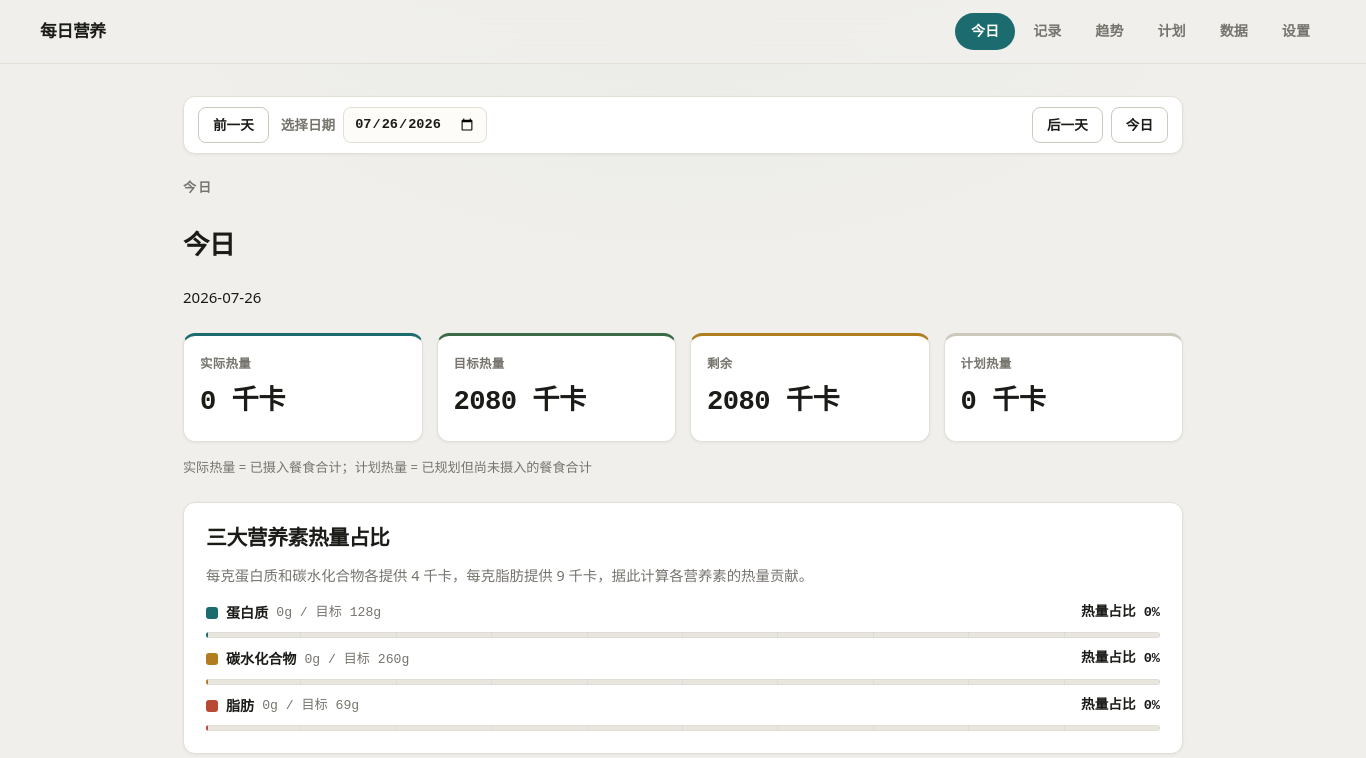
Test: settings workspace › edits profile and recalculates daily target
Expected: the heading "今日" is shown, [183,226,235,262]
Click the button "设置": (1296, 31) [1266,13,1326,50]
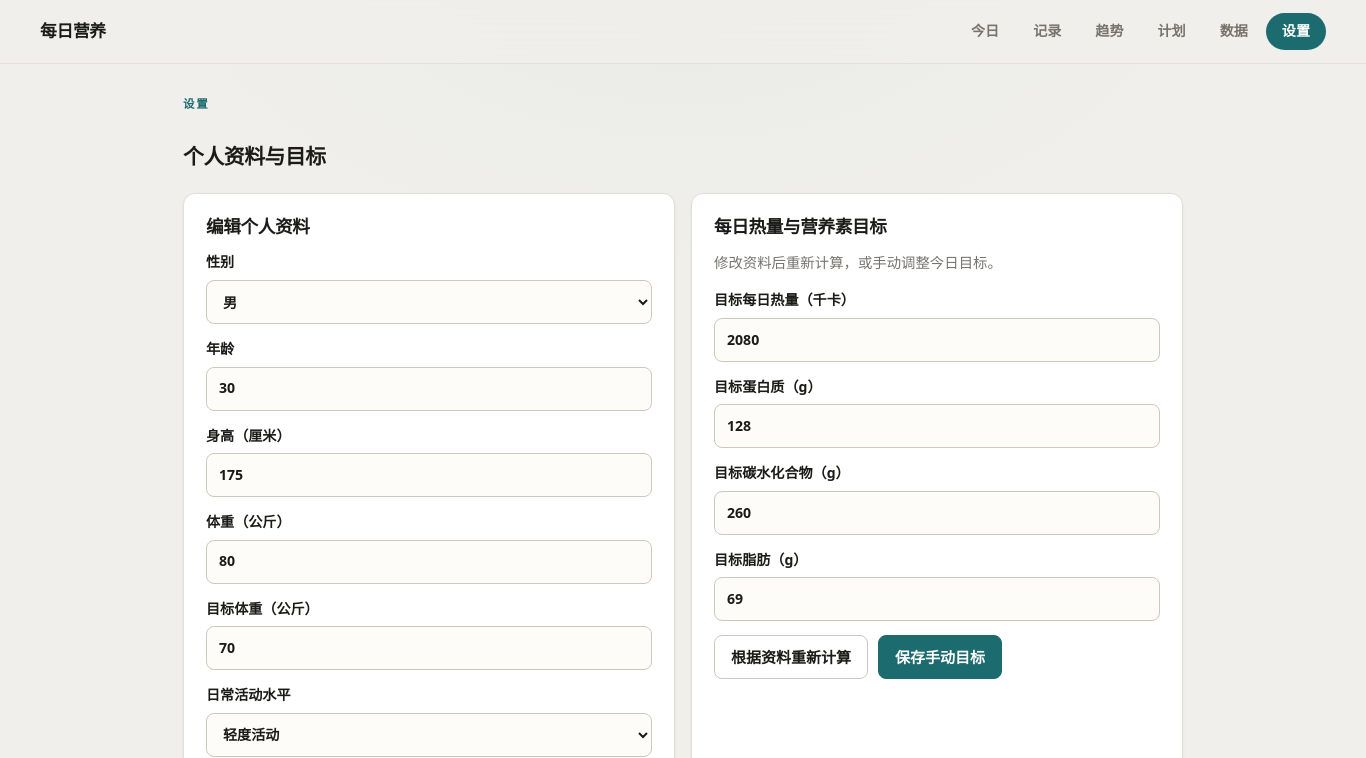
Replace the text in the number field labelled "体重（公斤）" with "75": (429, 562) [206,540,652,584]
(page scrolled)
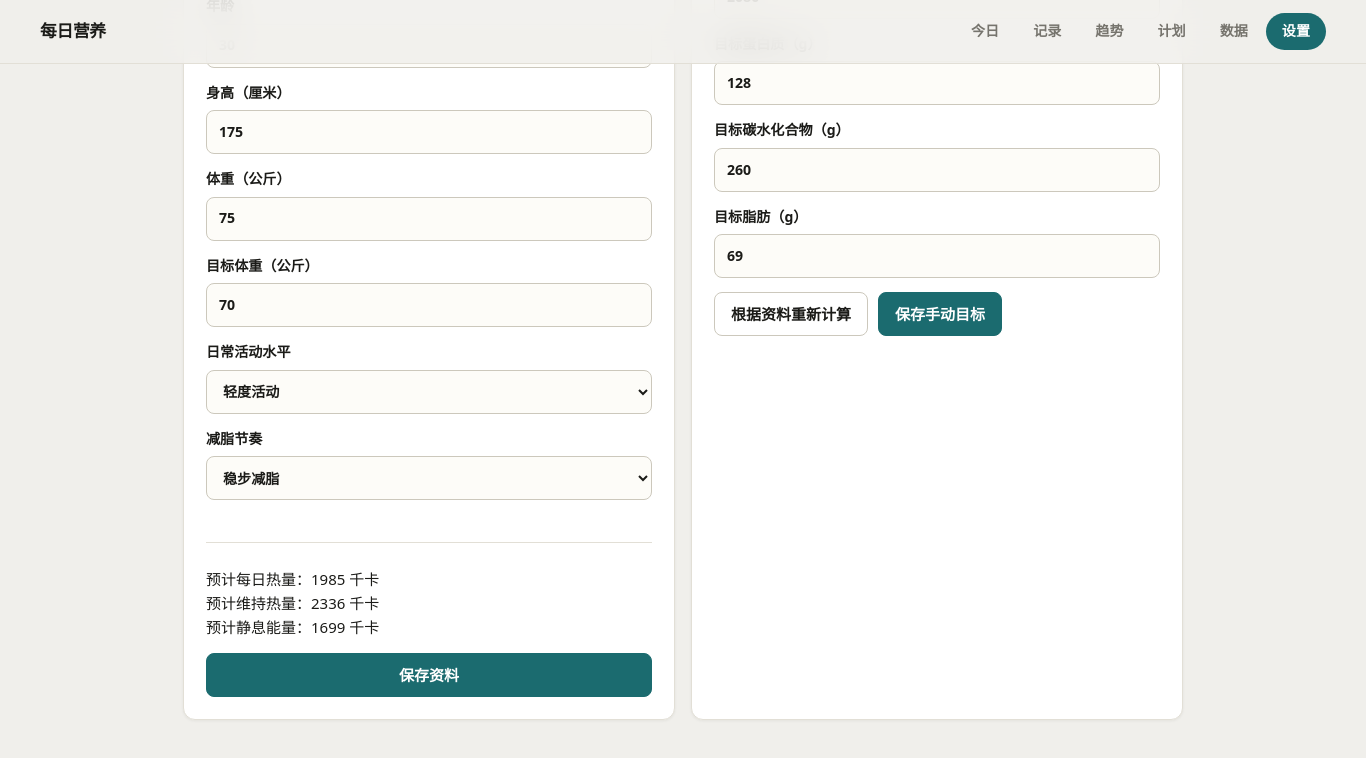
Click the button "保存资料": (429, 675) [206,653,652,697]
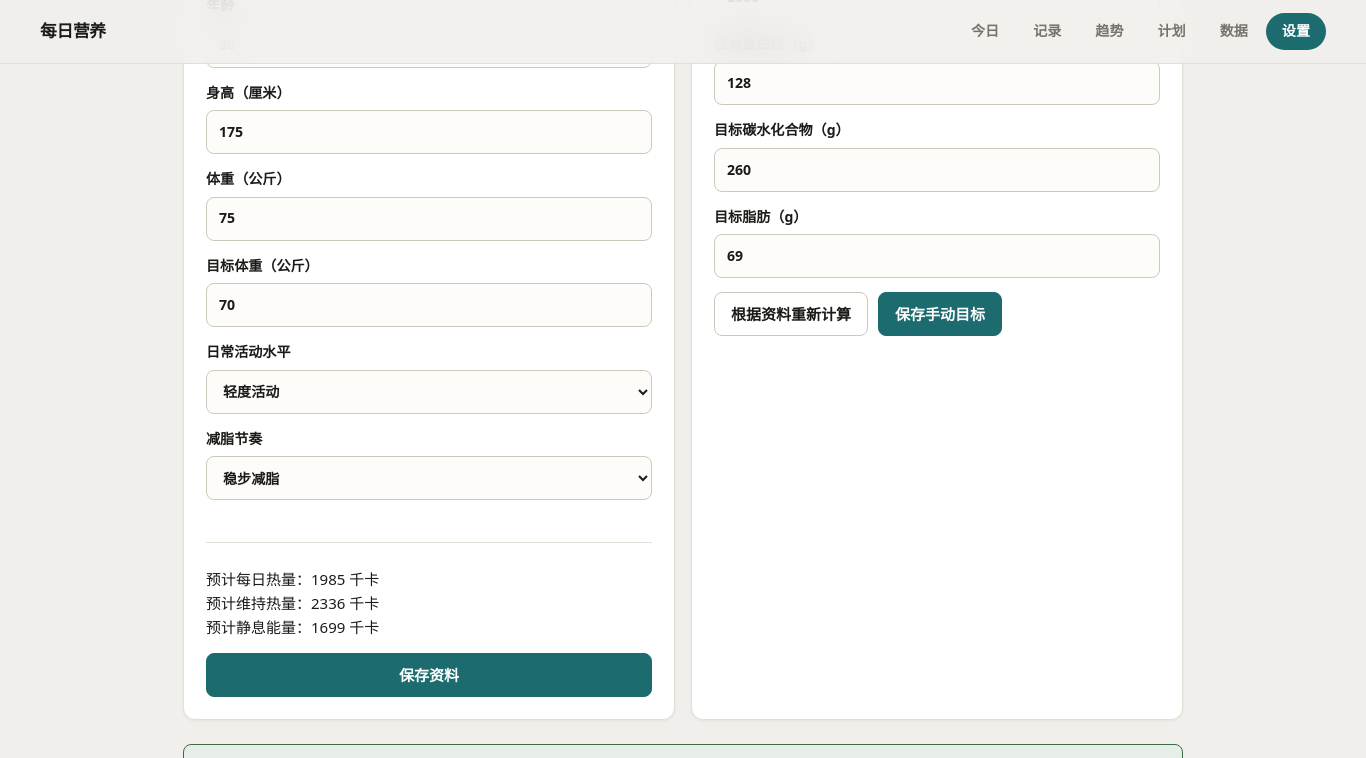
Select "温和减脂" in the dropdown labelled "减脂节奏": (429, 478) [206,456,652,500]
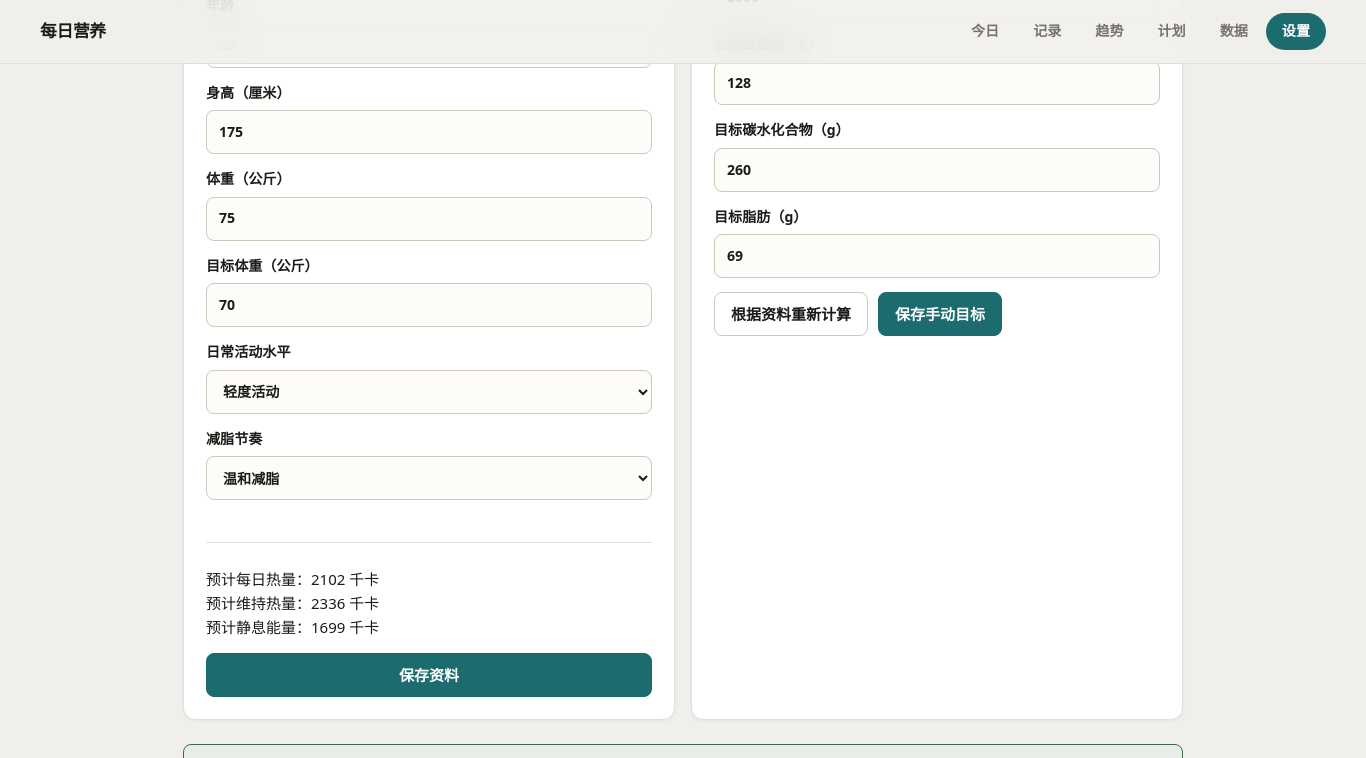
Click the button "根据资料重新计算": (791, 314) [714,292,868,336]
(page scrolled)
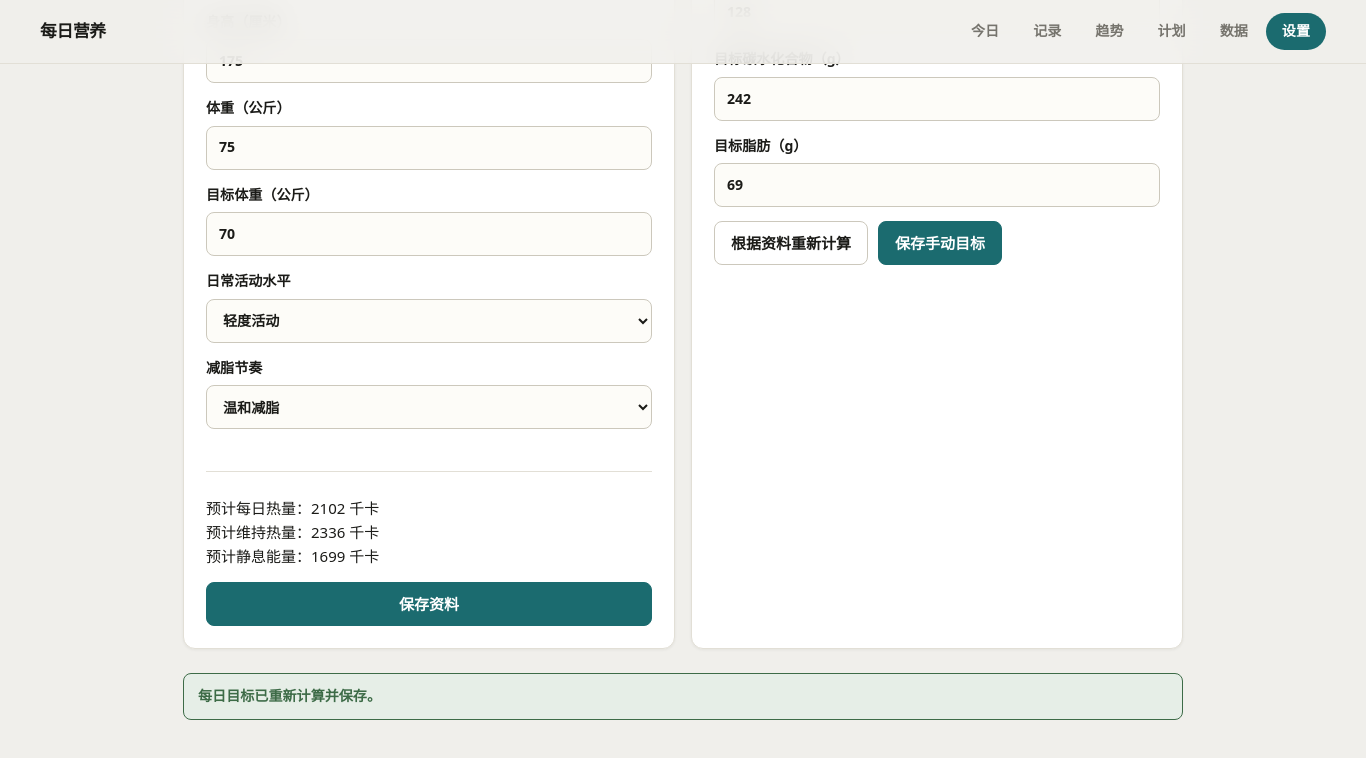
Expected: the text "每日目标已重新计算并保存。" is shown, [183,673,1183,720]
